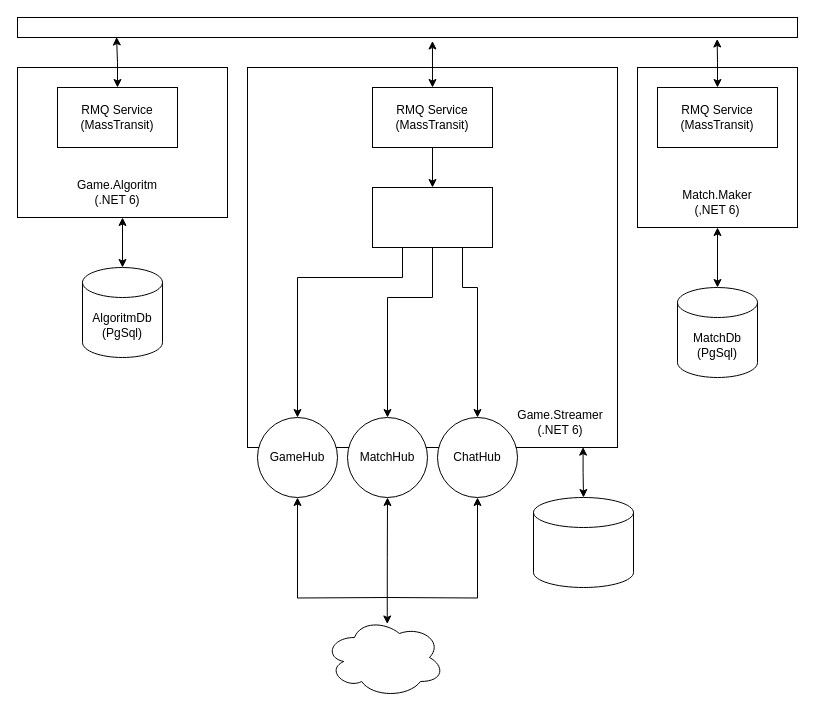
The diagram is 815 pixels wide and 715 high, and some of its shapes have lost their labels. The box of each missing label's shape, as (x1, y1, x2, y2) in pixels:
GameStreamDb (PgSql): (532, 496, 634, 588)
Message Bus (MassTransit): (16, 16, 798, 38)
SignalR Service: (372, 186, 492, 248)
Web.Client (Angular): (324, 616, 444, 698)
